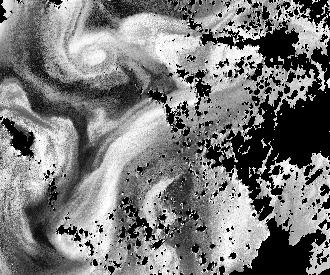CE: (60, 28, 124, 81)
